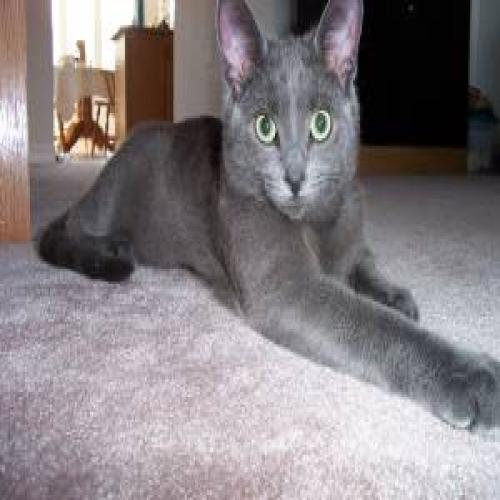rblue: (192, 1, 387, 235)
